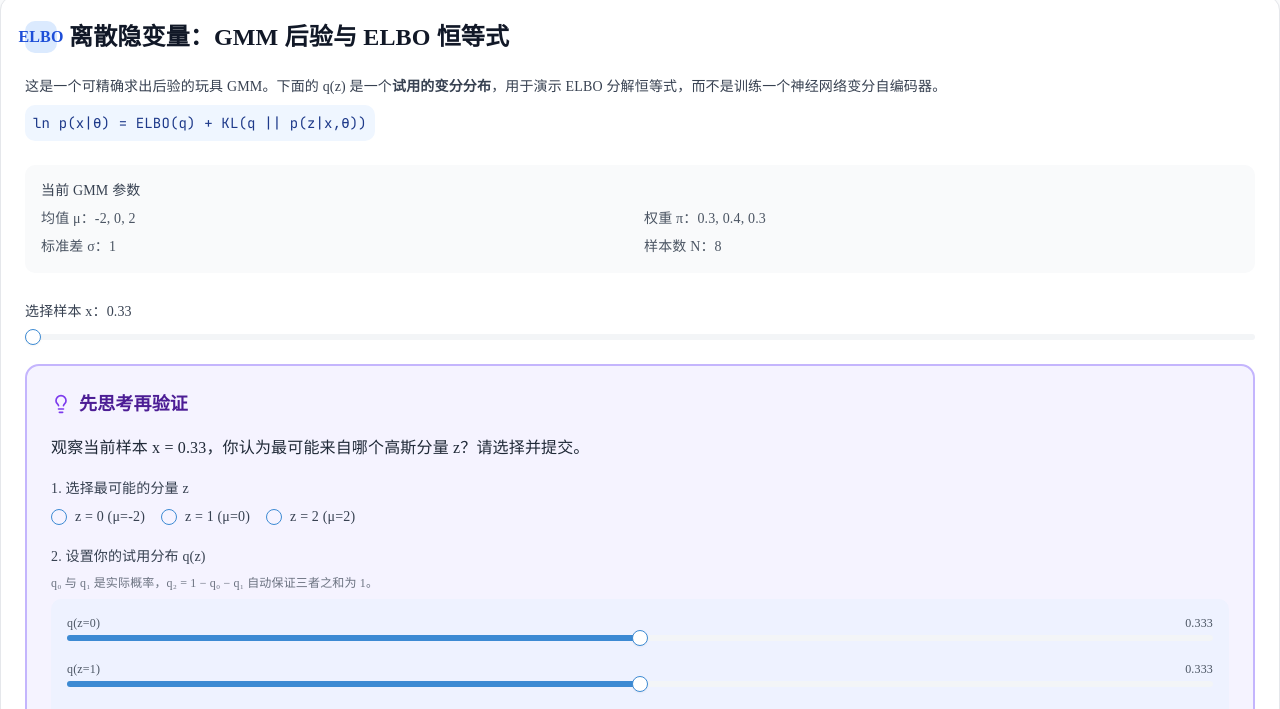
Scenario: pedagogical invariants: fourth batch › DiscreteLatentELBODemo: changing sample resets prediction, q, reveal and hint
Click the 1st radio button at (59, 517), box [51,509,67,525]
(page scrolled)
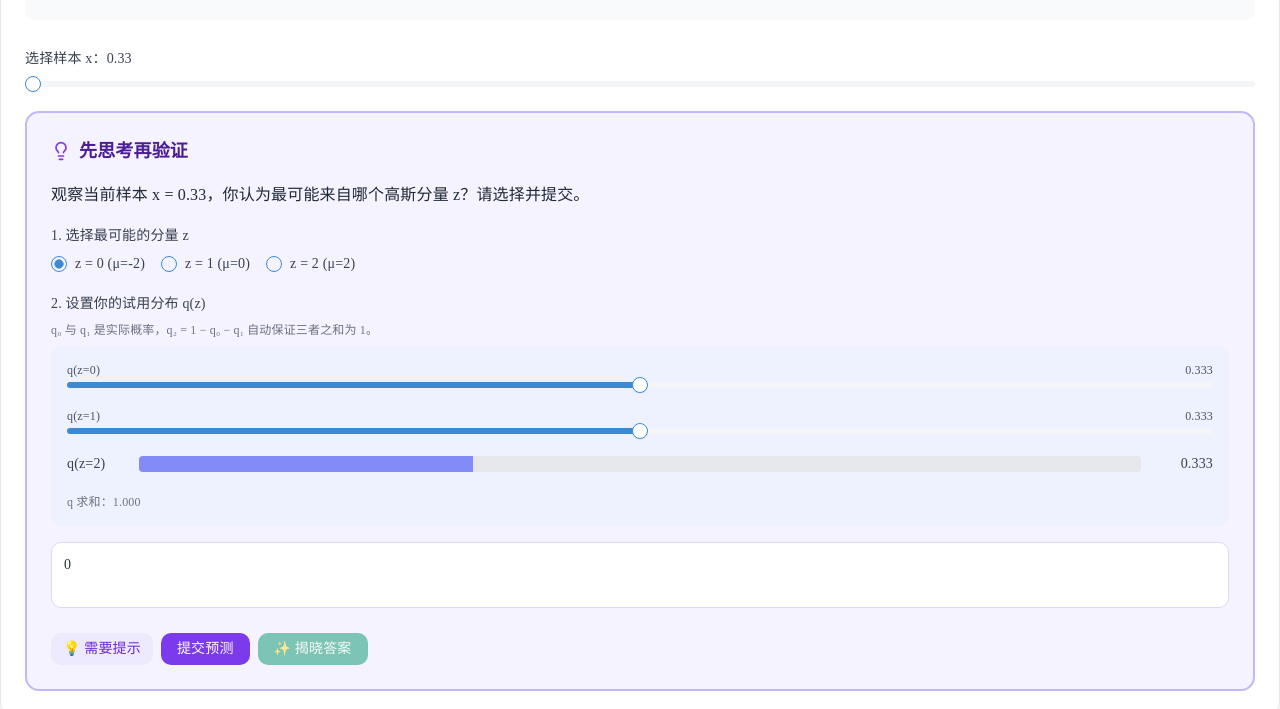
Click the button "提交预测" at (205, 649), box [161,633,250,665]
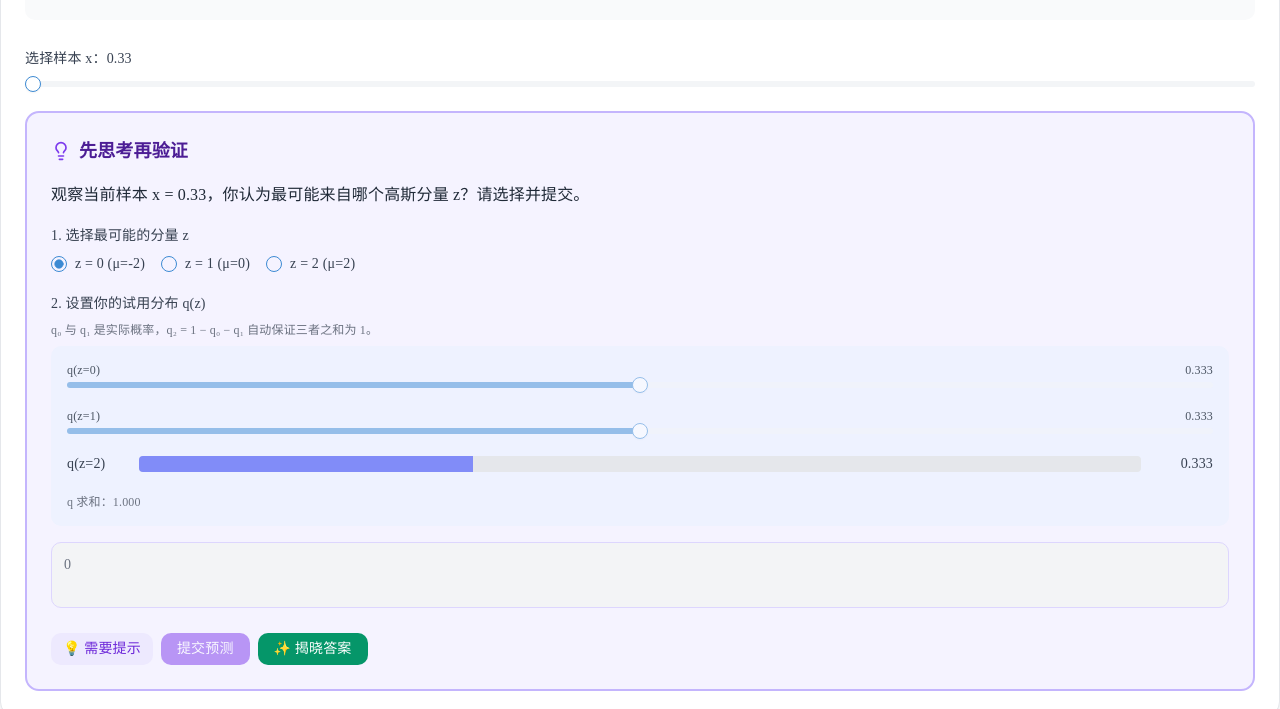
Click the button "✨ 揭晓答案" at (313, 649), box [258,633,368,665]
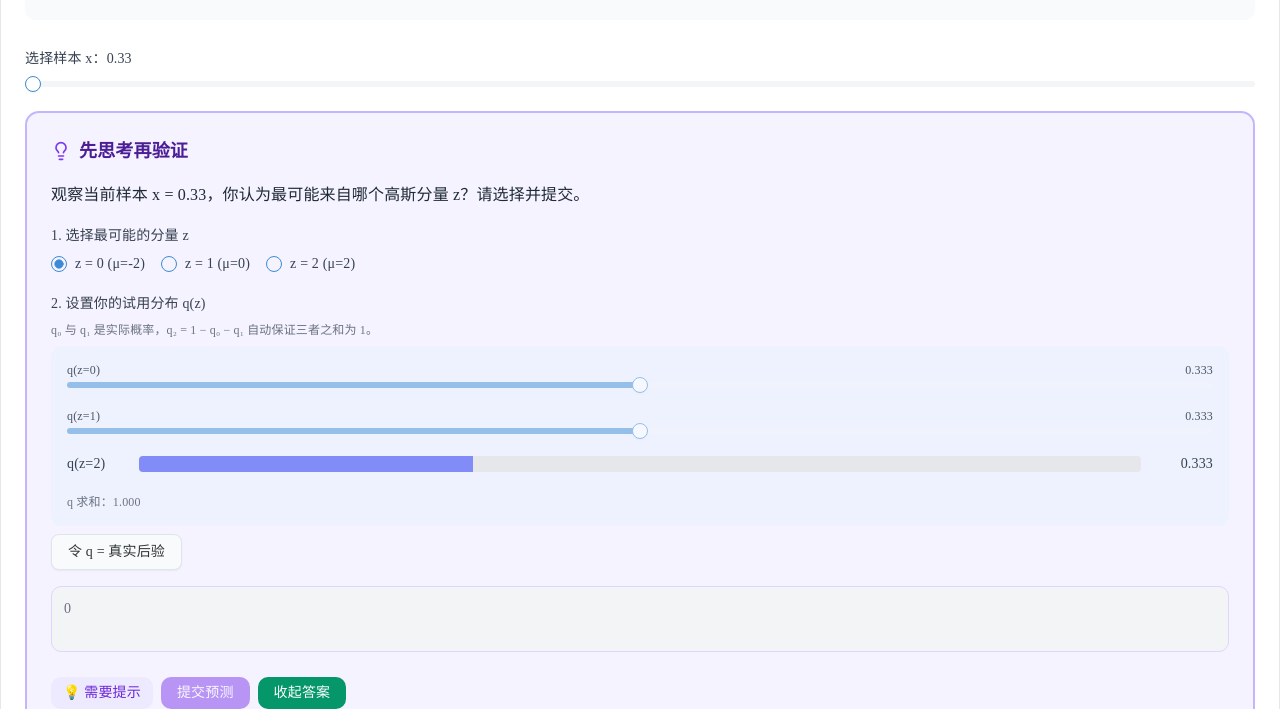
Expected: the text "真实后验" is shown, [51,534,182,570]
Note: Change sample using the sample slider (first slider).
Press ArrowRight in the slider below "选择样本 x：", box [25,76,41,92]
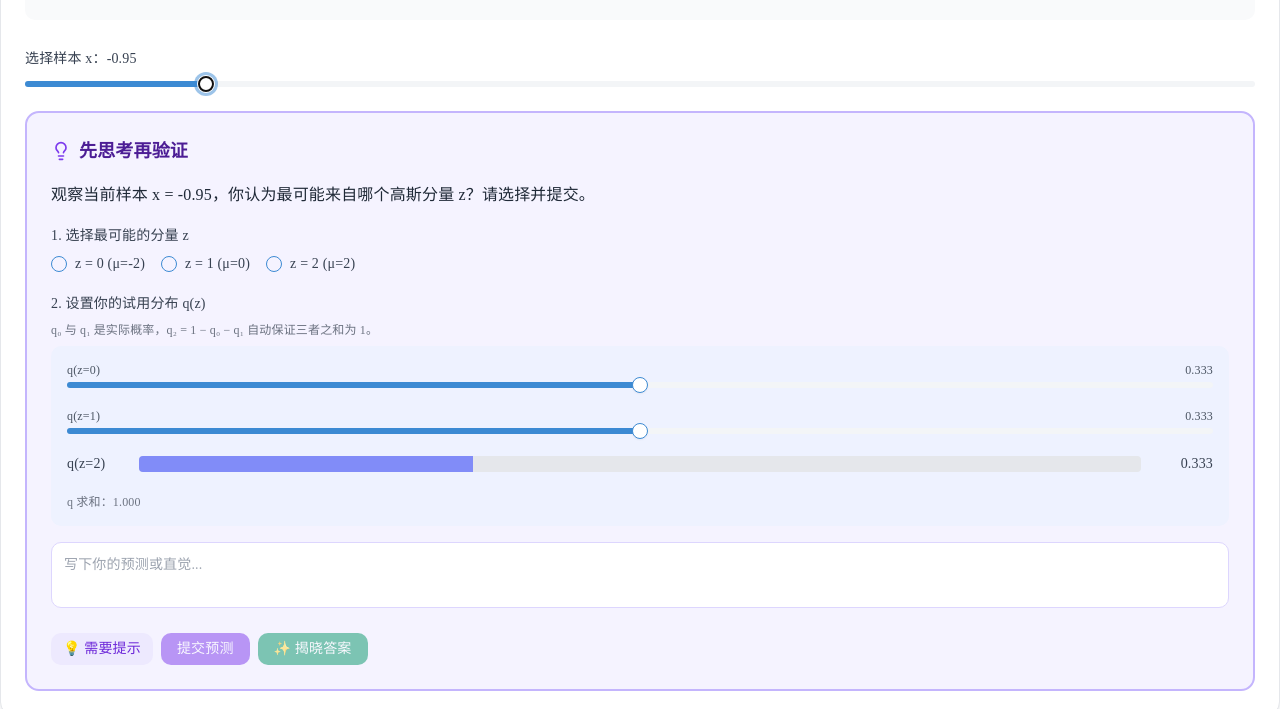
Expected: the text "真实后验" is gone
